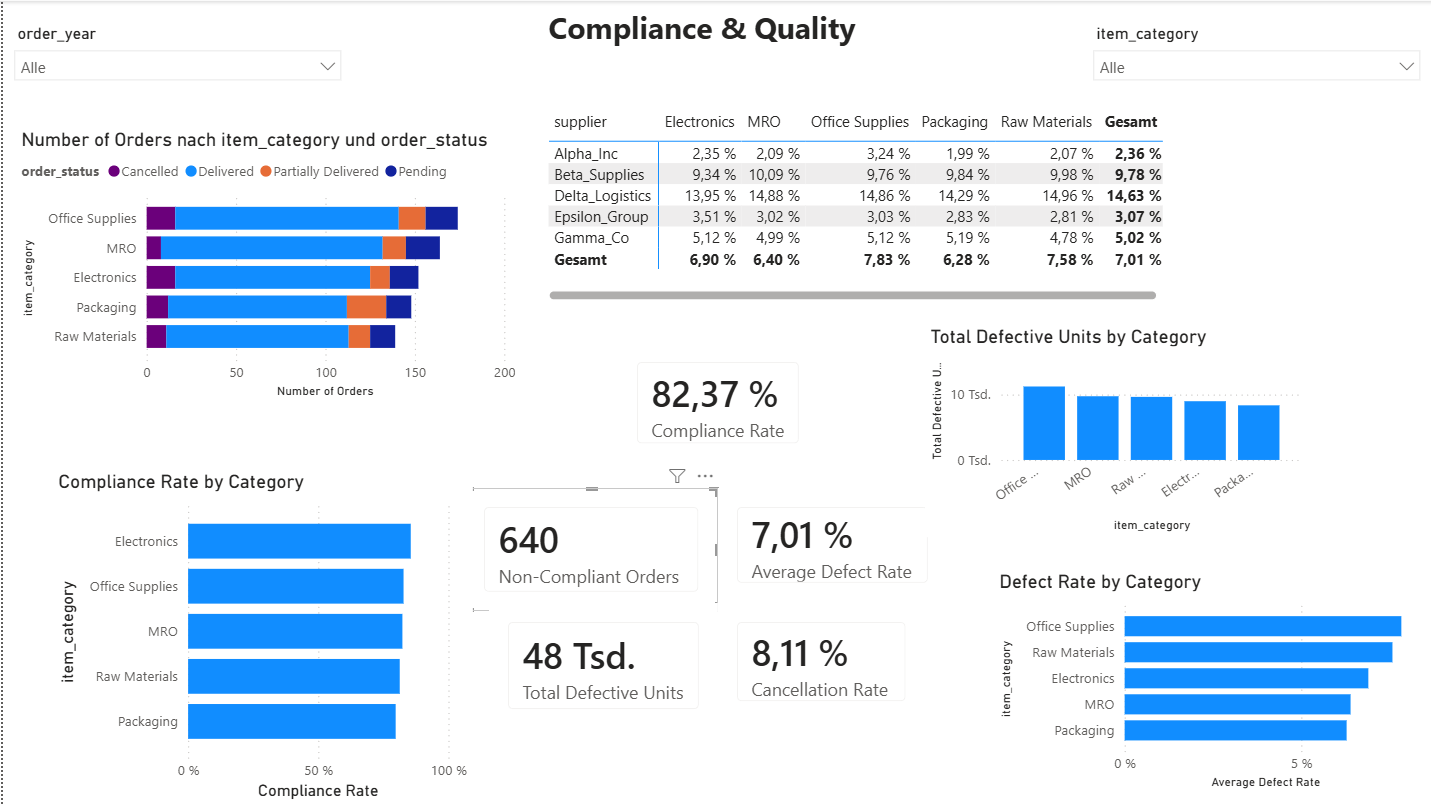

The page's visual inventory and layout, read from the dashboard file:
{"tool":"powerbi","page":{"name":"Compliance & Quality","canvas":[1280,720],"ordinal":2},"visuals":[{"type":"textbox","box":[483.6,0,312.5,48.4],"z":0},{"type":"cardVisual","fields":{"Data":["procurement_cleaned.Compliance Rate"]},"box":[550.7,306.3,179.1,107.5],"z":1},{"type":"cardVisual","fields":{"Data":["procurement_cleaned.Non-Compliant Orders"]},"box":[413.7,436.1,226.6,110.1],"z":2},{"type":"cardVisual","fields":{"Data":["procurement_cleaned.Average Defect Rate"]},"box":[640.3,436.1,205.1,103],"z":3},{"type":"cardVisual","fields":{"Data":["procurement_cleaned.Total Defective Units"]},"box":[435.2,539.1,205.1,112.8],"z":4},{"type":"cardVisual","fields":{"Data":["procurement_cleaned.Cancellation Rate"]},"box":[640.3,539.1,185.4,105.7],"z":5},{"type":"barChart","title":"Compliance Rate by Category","fields":{"Category":["procurement_cleaned.item_category"],"Y":["procurement_cleaned.Compliance Rate"]},"box":[44.8,420,376.1,300],"z":6},{"type":"barChart","title":"Defect Rate by Category","fields":{"Category":["procurement_cleaned.item_category"],"Y":["procurement_cleaned.Average Defect Rate"]},"box":[887.5,509.6,385.1,200.6],"z":7},{"type":"columnChart","title":"Total Defective Units by Category","fields":{"Category":["procurement_cleaned.item_category"],"Y":["procurement_cleaned.Total Defective Units"]},"box":[825.7,290.1,343,189.9],"z":8},{"type":"barChart","fields":{"Series":["procurement_cleaned.order_status"],"Y":["procurement_cleaned.Number of Orders"],"Category":["procurement_cleaned.item_category"]},"box":[11.6,113.7,452.2,246.3],"z":9},{"type":"slicer","fields":{"Values":["procurement_cleaned.item_category"]},"box":[966.3,16.1,313.4,77],"z":10},{"type":"slicer","fields":{"Values":["procurement_cleaned.order_year"]},"box":[0,16.1,313.4,64.5],"z":11},{"type":"pivotTable","fields":{"Rows":["procurement_cleaned.supplier"],"Columns":["procurement_cleaned.item_category"],"Values":["procurement_cleaned.Average Defect Rate"]},"box":[495.2,93.1,559.7,180],"z":12}]}

Visuals, with their boxes in screenshot pixels (x1, y1, x2, y2), scaled from the page's 1280x720 canvas onto the 1431x805 screenshot:
textbox: select_region(541, 0, 890, 54)
cardVisual - procurement_cleaned.Compliance Rate: select_region(616, 342, 816, 463)
cardVisual - procurement_cleaned.Non-Compliant Orders: select_region(463, 488, 716, 611)
cardVisual - procurement_cleaned.Average Defect Rate: select_region(716, 488, 945, 603)
cardVisual - procurement_cleaned.Total Defective Units: select_region(487, 603, 716, 729)
cardVisual - procurement_cleaned.Cancellation Rate: select_region(716, 603, 923, 721)
"Compliance Rate by Category" barChart: select_region(50, 470, 471, 804)
"Defect Rate by Category" barChart: select_region(992, 570, 1423, 794)
"Total Defective Units by Category" columnChart: select_region(923, 324, 1307, 537)
barChart - procurement_cleaned.order_status x procurement_cleaned.Number of Orders: select_region(13, 127, 519, 402)
slicer - procurement_cleaned.item_category: select_region(1080, 18, 1430, 104)
slicer - procurement_cleaned.order_year: select_region(0, 18, 350, 90)
pivotTable - procurement_cleaned.supplier x procurement_cleaned.item_category: select_region(554, 104, 1179, 305)
